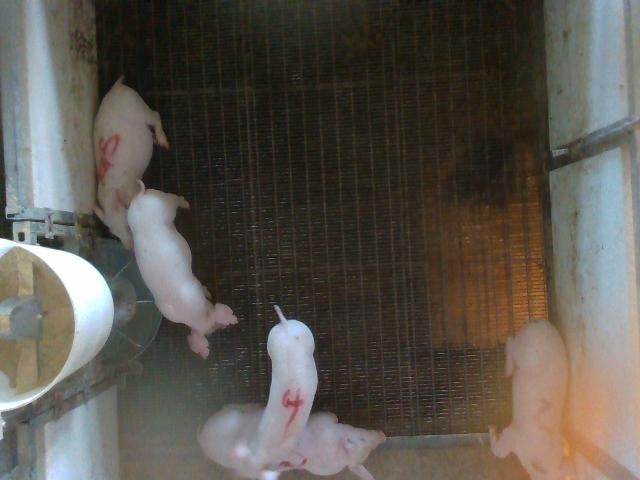pig-2: (490, 320, 569, 479)
pig-4: (234, 306, 318, 478)
pig-5: (94, 76, 169, 250)
